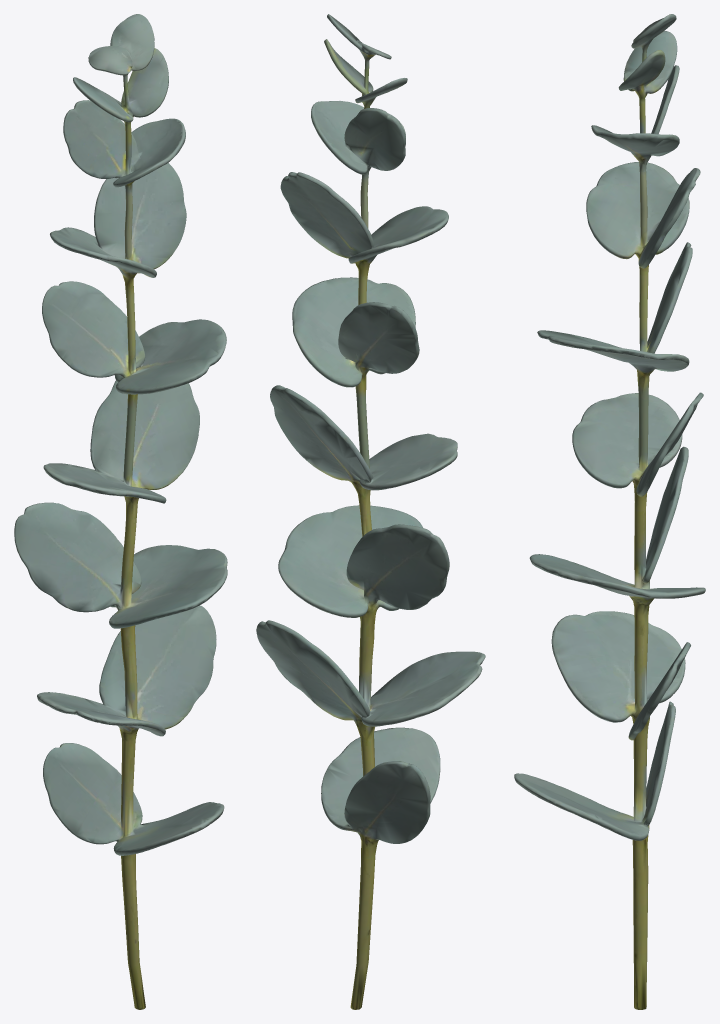
File: fl-green-eucalyptus-baby-blue.glb
The picture shows the model from 3 angles, left to right: view 1: azimuth 30°, elevation 25°; view 2: azimuth 150°, elevation 25°; view 3: azimuth 270°, elevation 25°; orthographic projection.
Visible parts, largest first — view 1: node_0; view 2: node_0; view 3: node_0.
Part boxes in pixels (box(x1,y1,x2,y2)): node_0: box(14, 14, 227, 1009); node_0: box(256, 14, 485, 1009); node_0: box(514, 14, 705, 1009).
Bounding box in the file's own units: 0.2455 × 1.19 × 0.2072.
1 material, 1 textured.
